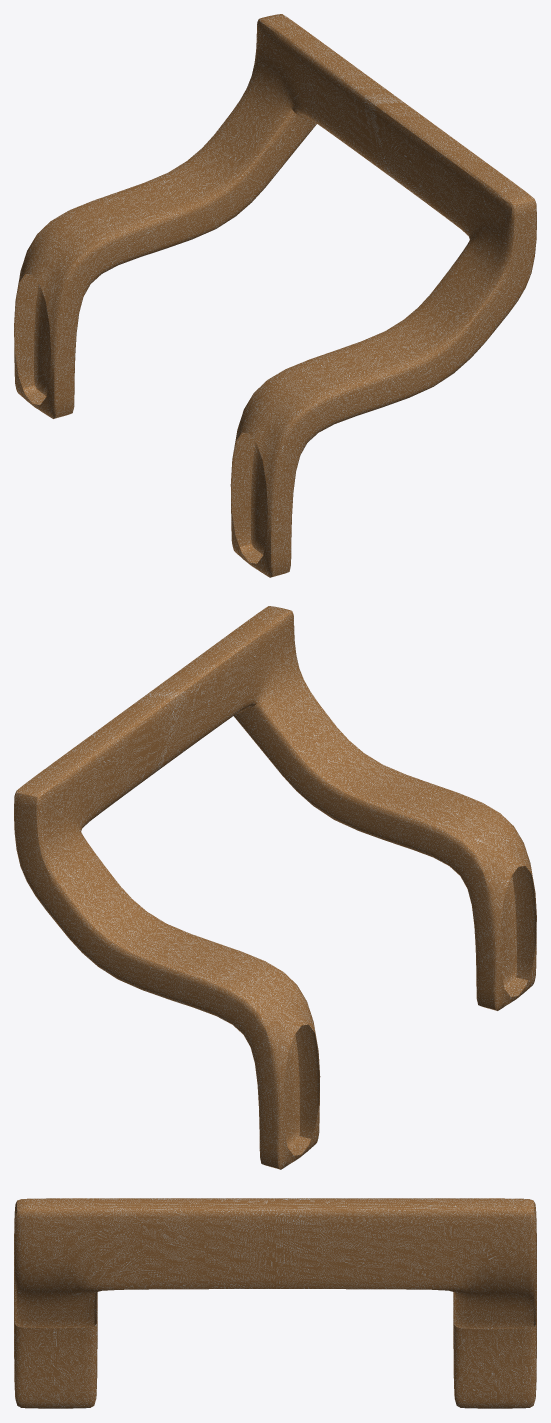
File: original-3.obj
The picture shows the model from 3 angles, top to bottom: view 1: azimuth 30°, elevation 25°; view 2: azimuth 150°, elevation 25°; view 3: azimuth 270°, elevation 25°; orthographic projection.
Parts seen in each view (by area): view 1: Line04_1_1/Line04_1/mesh2/mesh2-geometry#mesh2-geometry; view 2: Line04_1_1/Line04_1/mesh2/mesh2-geometry#mesh2-geometry; view 3: Line04_1_1/Line04_1/mesh2/mesh2-geometry#mesh2-geometry.
Part boxes in pixels (left/top/right/bottom): Line04_1_1/Line04_1/mesh2/mesh2-geometry#mesh2-geometry: left=14, top=14, right=536, bottom=577; Line04_1_1/Line04_1/mesh2/mesh2-geometry#mesh2-geometry: left=14, top=606, right=536, bottom=1169; Line04_1_1/Line04_1/mesh2/mesh2-geometry#mesh2-geometry: left=14, top=1198, right=536, bottom=1408.
Size of the model in its own units: 0.2438 by 0.2742 by 0.4031.
